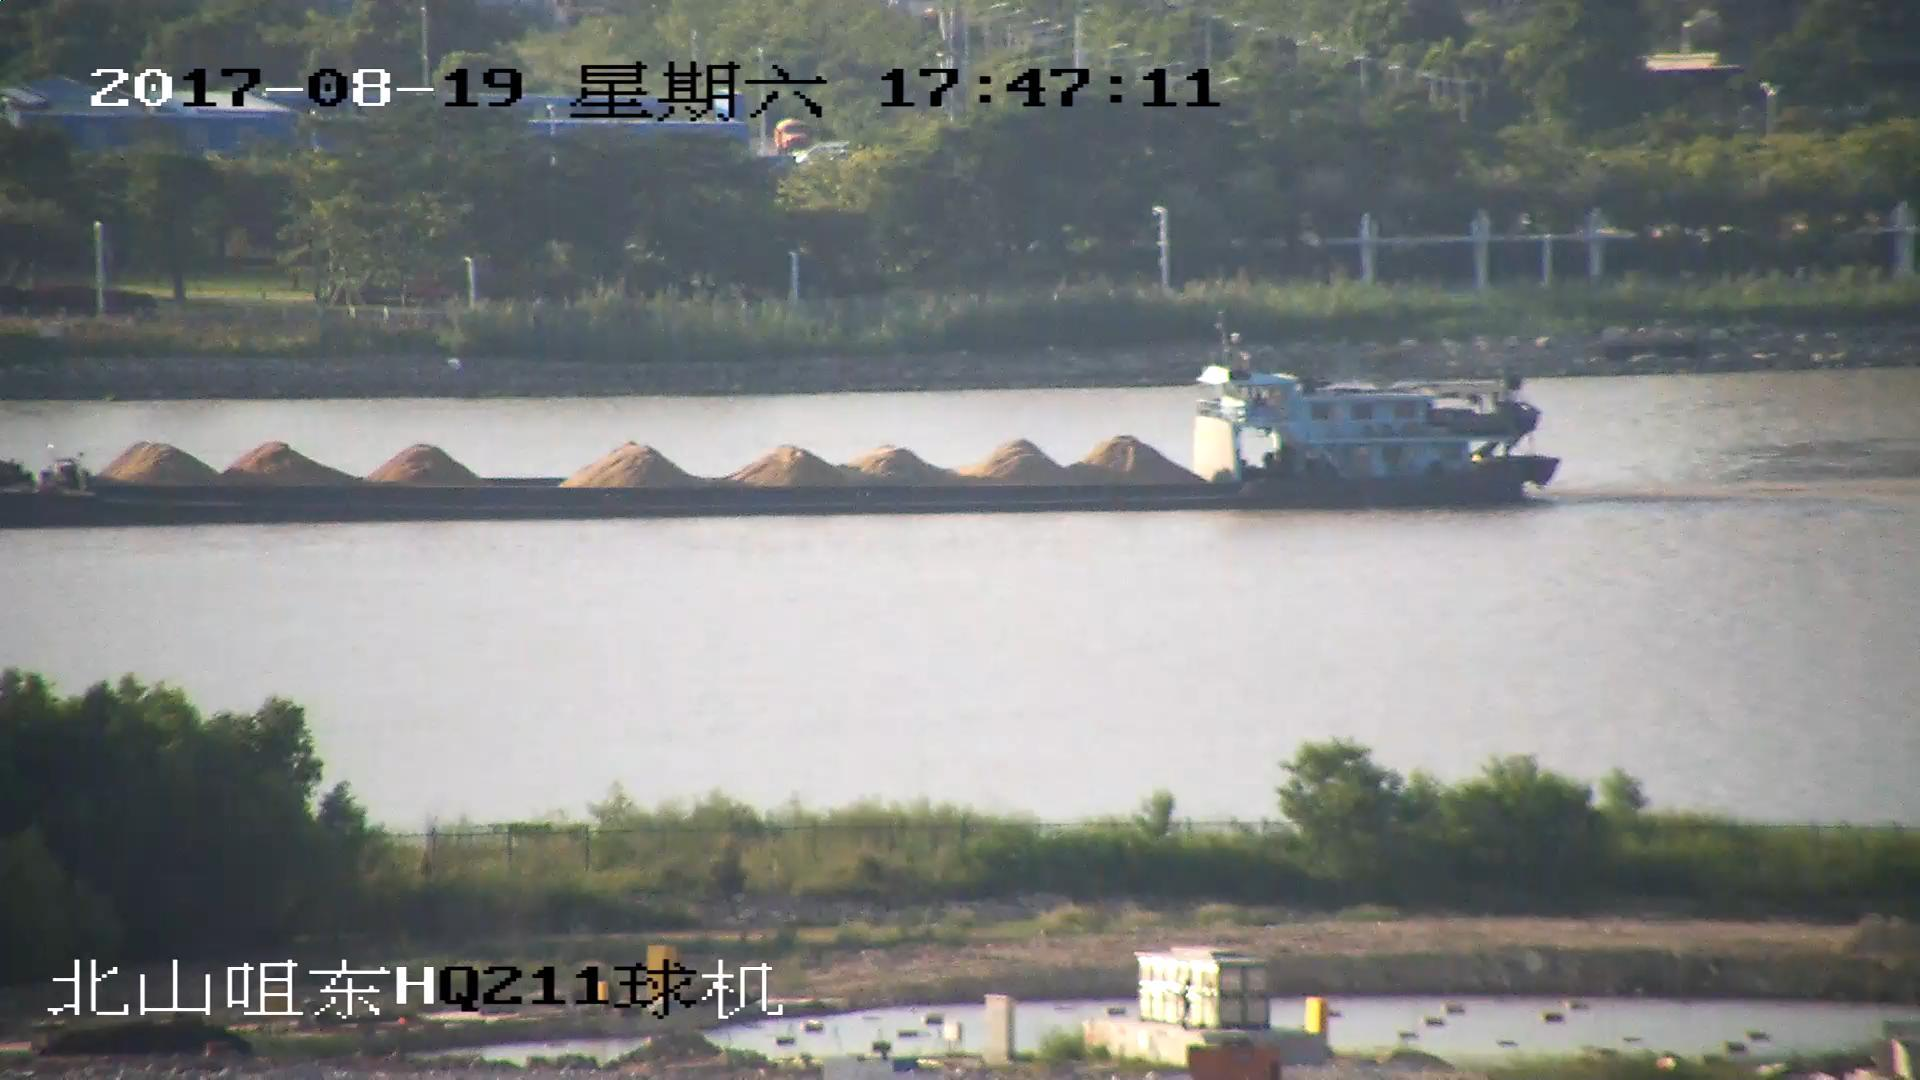Ship: (3, 323, 1555, 529)
